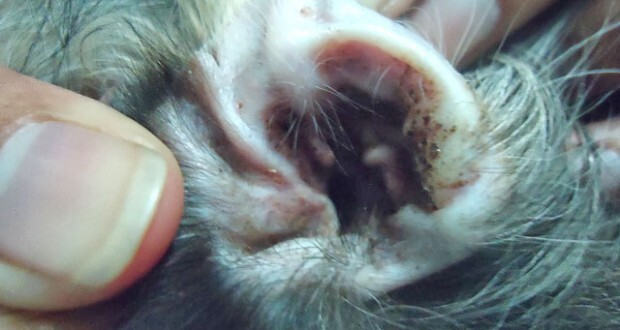tungau: (237, 48, 465, 247)
